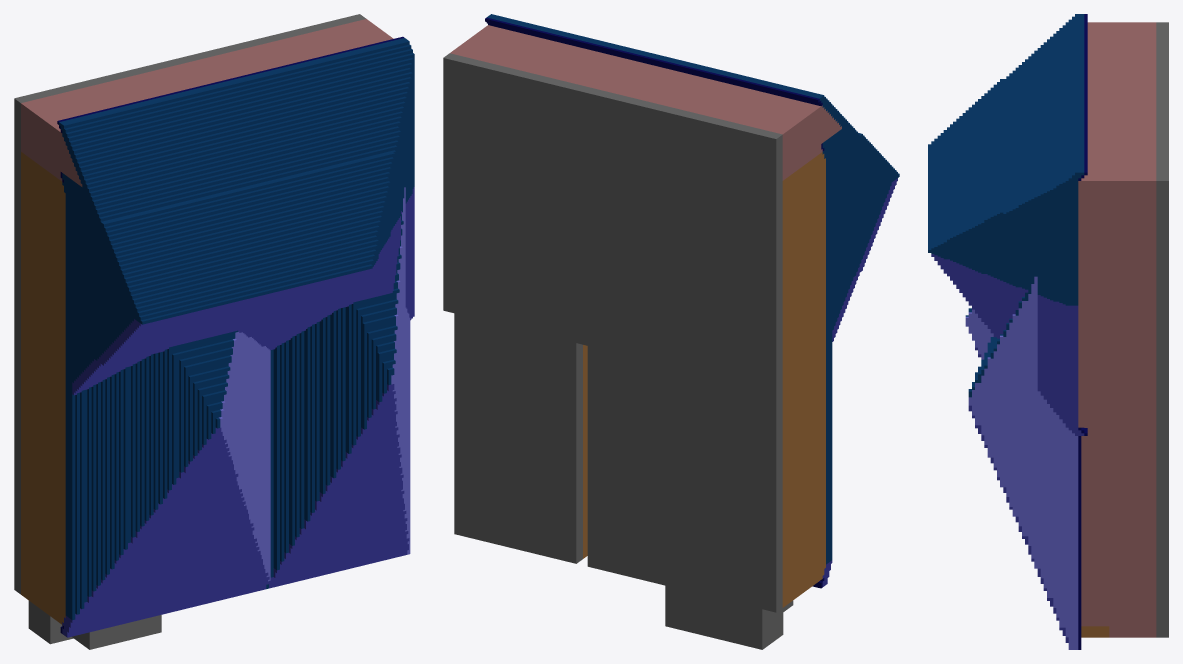
Rendered from blue_church_2.obj.
3 renders of one model, left to right at view 1: azimuth 30°, elevation 25°; view 2: azimuth 150°, elevation 25°; view 3: azimuth 270°, elevation 25°, orthographic. The views are drawn at different scales.
Size of the model in its own units: 12 by 18 by 7.7.
1 material, 1 textured.
